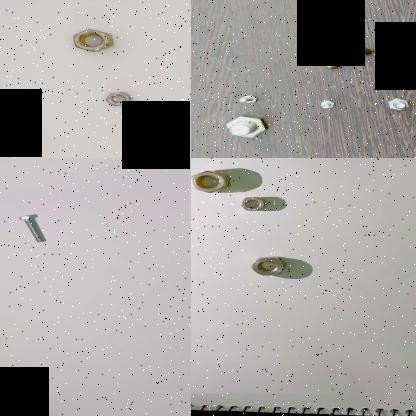Bolts: (318, 38, 376, 69), (16, 210, 54, 244), (223, 111, 267, 140), (382, 95, 416, 114), (234, 93, 258, 105), (318, 99, 338, 109)
NUTS: (62, 22, 121, 58), (98, 86, 138, 114), (191, 166, 231, 192), (249, 254, 290, 276), (238, 193, 270, 214), (179, 52, 191, 80)
